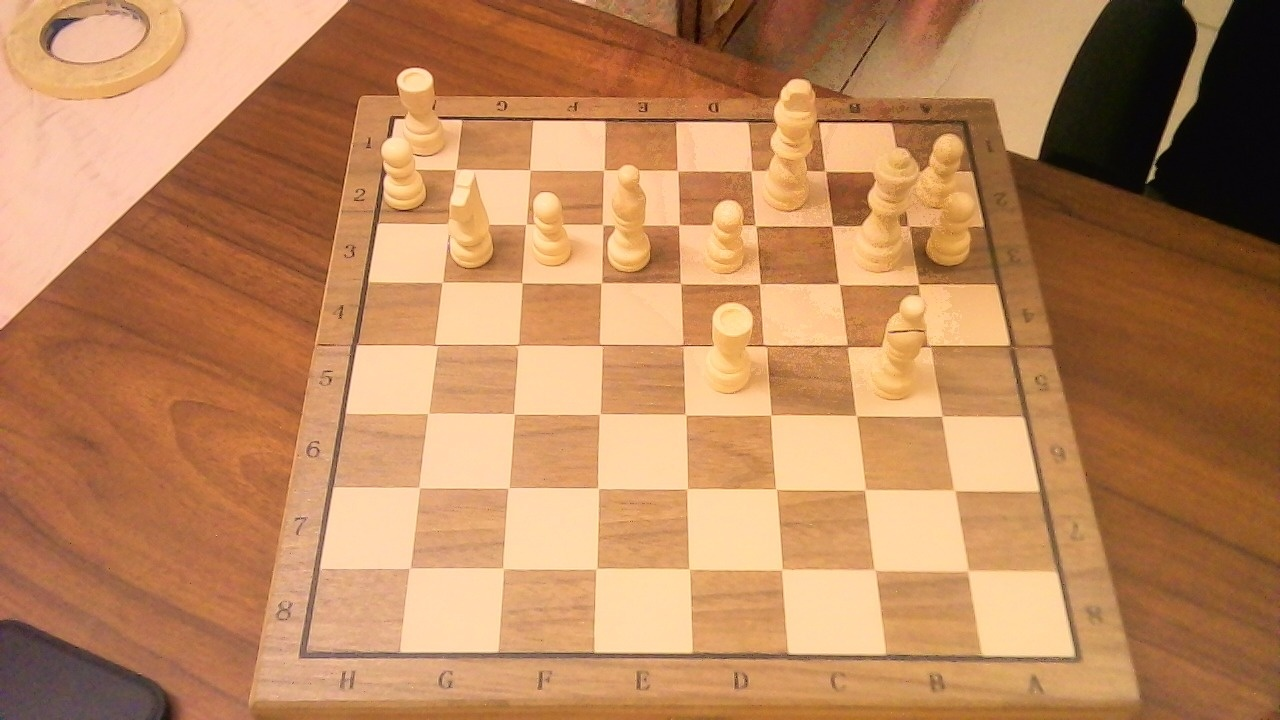B: (863, 284, 936, 405), (604, 153, 663, 275)
K: (758, 67, 826, 215)
N: (443, 163, 504, 272)
P: (920, 124, 985, 269), (695, 190, 753, 279), (525, 182, 578, 272), (377, 127, 432, 212)
Q: (846, 134, 925, 277)
R: (695, 291, 762, 400), (392, 57, 451, 160)
